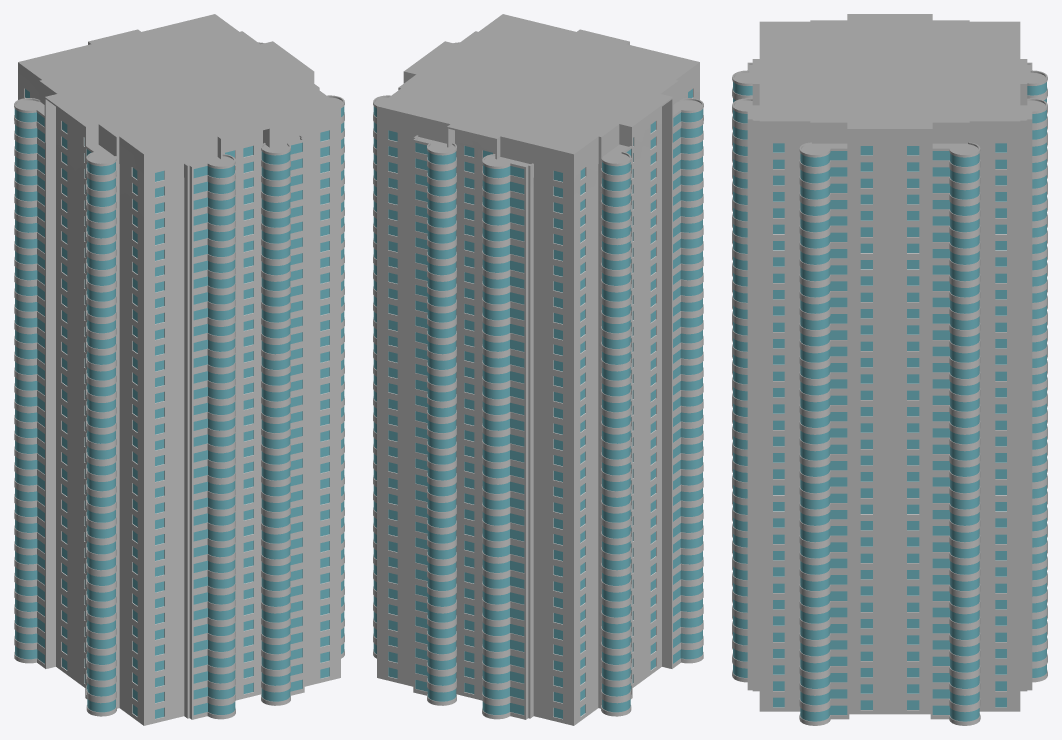
Rendered from Soviet Residential Building.fbx.
3 renders of one model, left to right at view 1: azimuth 30°, elevation 25°; view 2: azimuth 150°, elevation 25°; view 3: azimuth 270°, elevation 25°, orthographic. The views are drawn at different scales.
Parts seen in each view (by area): view 1: polySurface68_polySurface68; view 2: polySurface68_polySurface68; view 3: polySurface68_polySurface68.
Part boxes in pixels (box(x1,y1,x2,y2)): polySurface68_polySurface68: box(14, 14, 344, 725); polySurface68_polySurface68: box(373, 14, 703, 725); polySurface68_polySurface68: box(732, 14, 1047, 725).
Size of the model in its own units: 89.99 by 193 by 93.65.
